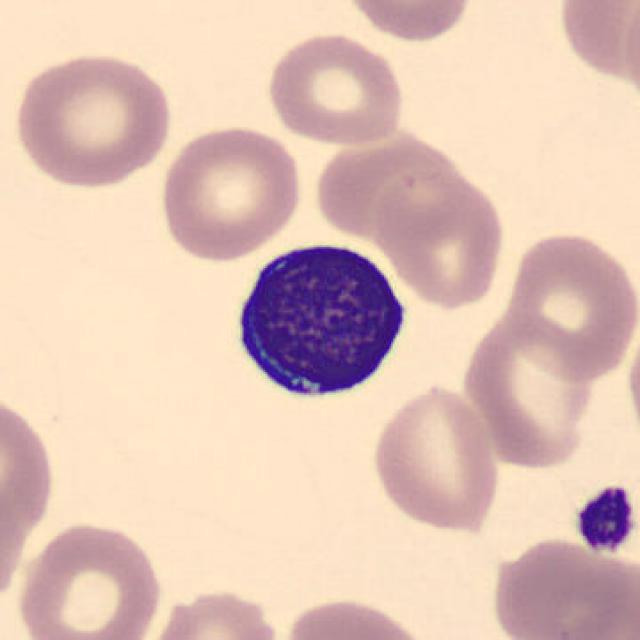Lymphocyte: (219, 229, 416, 409)
Platelets: (571, 481, 638, 557)
RBC: (458, 294, 604, 474), (9, 48, 176, 190), (374, 153, 511, 312), (366, 379, 503, 536), (156, 120, 306, 263), (500, 228, 638, 382), (309, 125, 482, 247), (13, 518, 167, 640), (261, 28, 407, 148), (486, 532, 636, 640), (0, 386, 60, 610), (136, 583, 286, 640), (553, 0, 638, 97), (279, 592, 436, 640), (338, 0, 476, 44), (624, 304, 640, 452)
